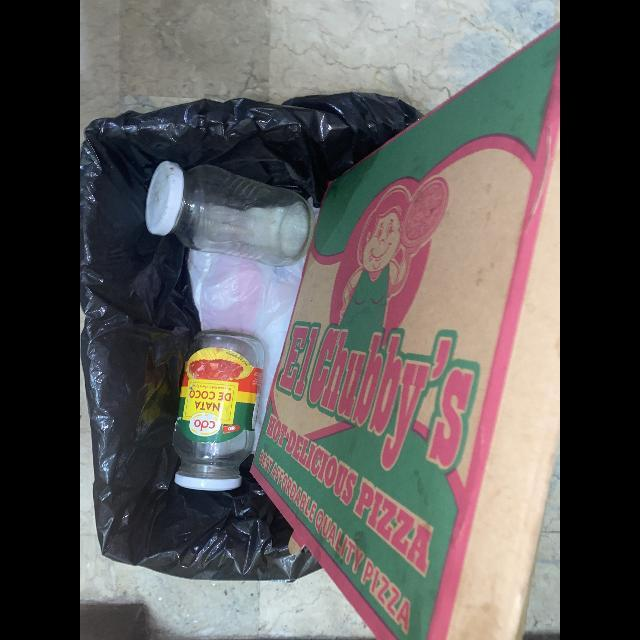glass: (145, 161, 315, 268), (172, 330, 265, 492)
paper: (251, 22, 560, 640)
